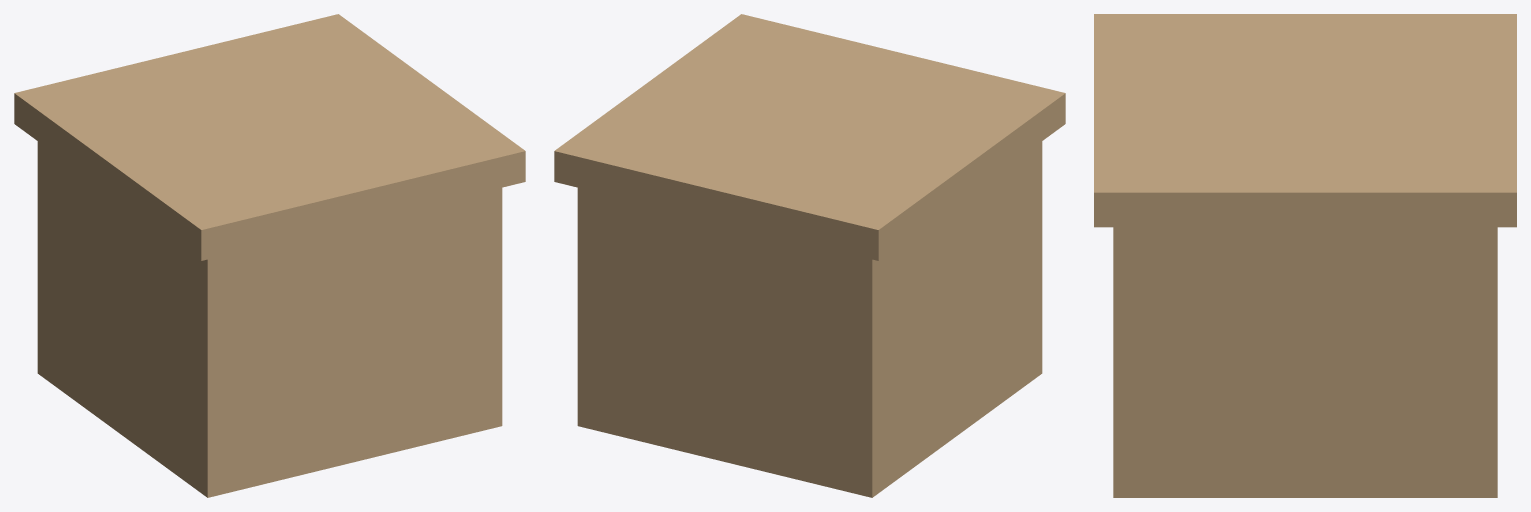
The model's file is crate.fbx.
The picture shows the model from 3 angles, left to right: view 1: azimuth 30°, elevation 25°; view 2: azimuth 150°, elevation 25°; view 3: azimuth 270°, elevation 25°; orthographic projection. The views are drawn at different scales.
Parts seen in each view (by area): view 1: Crate, Lid; view 2: Crate, Lid; view 3: Crate, Lid.
Boxes of the visible parts, x1,y1,x2,y2 form: Crate: (37, 141, 502, 497); Lid: (14, 14, 525, 260); Crate: (577, 141, 1042, 497); Lid: (554, 14, 1065, 260); Crate: (1113, 227, 1497, 497); Lid: (1094, 14, 1516, 227).
Bounding box in the file's own units: 1.1 × 0.9 × 1.1.
